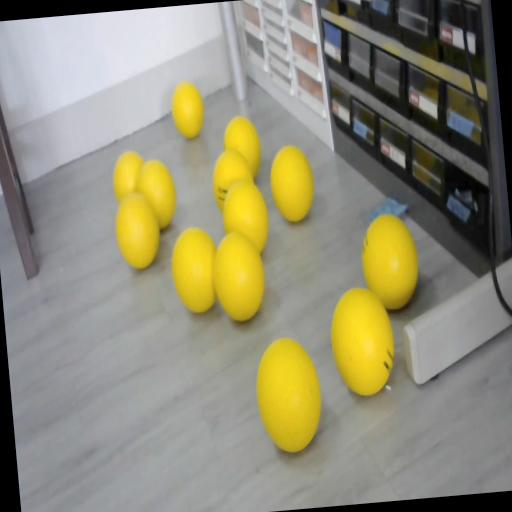FUEL: (250, 332, 326, 454), (326, 282, 398, 398), (356, 210, 422, 312), (208, 228, 268, 322), (167, 222, 222, 314), (267, 142, 317, 224), (112, 190, 162, 270), (222, 114, 264, 178), (168, 80, 206, 140), (110, 150, 148, 204)
